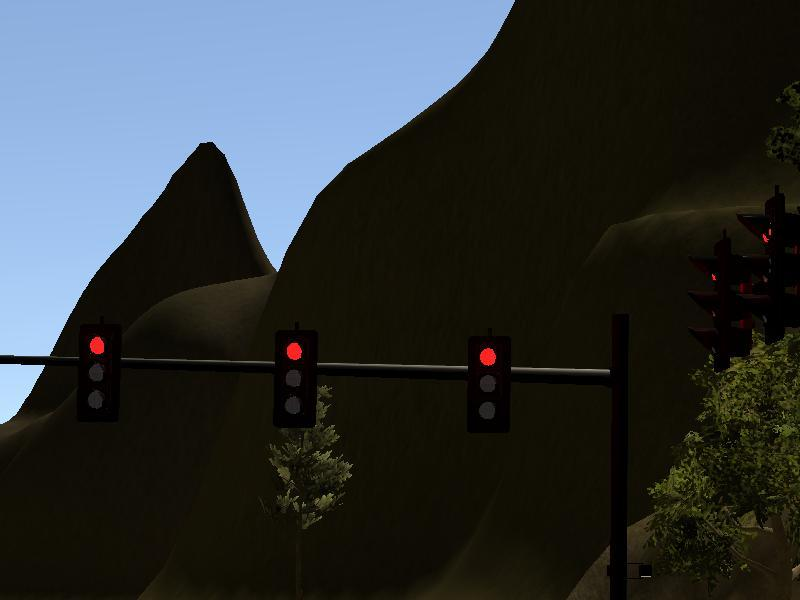Red: (471, 335, 512, 430), (278, 330, 317, 425), (77, 327, 118, 417)
